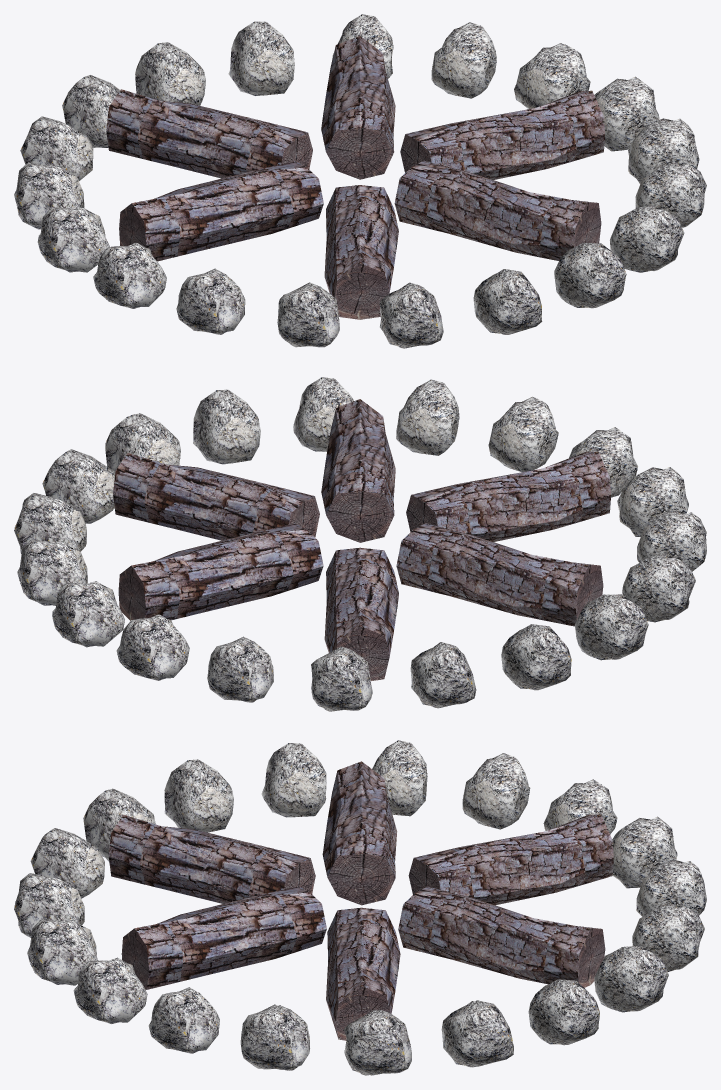
Rendered from campfire.fbx.
3 renders of one model, top to bottom at view 1: azimuth 30°, elevation 25°; view 2: azimuth 150°, elevation 25°; view 3: azimuth 270°, elevation 25°, orthographic.
Parts seen in each view (by area): view 1: pCylinder7; view 2: pCylinder7; view 3: pCylinder7.
Boxes of the visible parts, x1=… form: pCylinder7: x1=14, y1=14, x2=706, y2=348; pCylinder7: x1=14, y1=377, x2=706, y2=711; pCylinder7: x1=14, y1=740, x2=706, y2=1075.
Size of the model in its own units: 1629 by 170 by 1627.
Materials: 3 (3 with a texture image).
